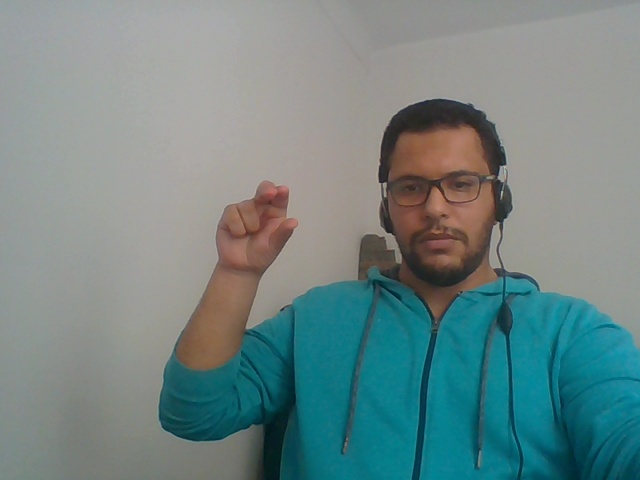no: (191, 145, 318, 277)
